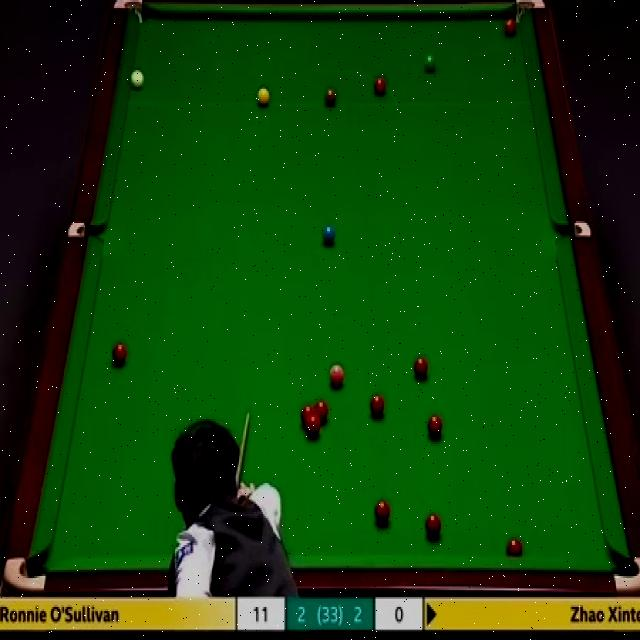blue-ball: (321, 225, 337, 246)
brown-ball: (324, 84, 336, 106)
green-ball: (421, 52, 436, 74)
pink-ball: (328, 364, 346, 390)
red-ball: (423, 512, 442, 540), (413, 354, 430, 381), (374, 496, 388, 525), (370, 392, 386, 417), (427, 414, 441, 442), (112, 342, 126, 370), (300, 404, 315, 430), (506, 536, 523, 556), (314, 400, 328, 424), (372, 75, 388, 96), (306, 418, 322, 438), (505, 18, 515, 35)
white-ball: (132, 71, 144, 89)
yellow-ball: (255, 88, 271, 106)
